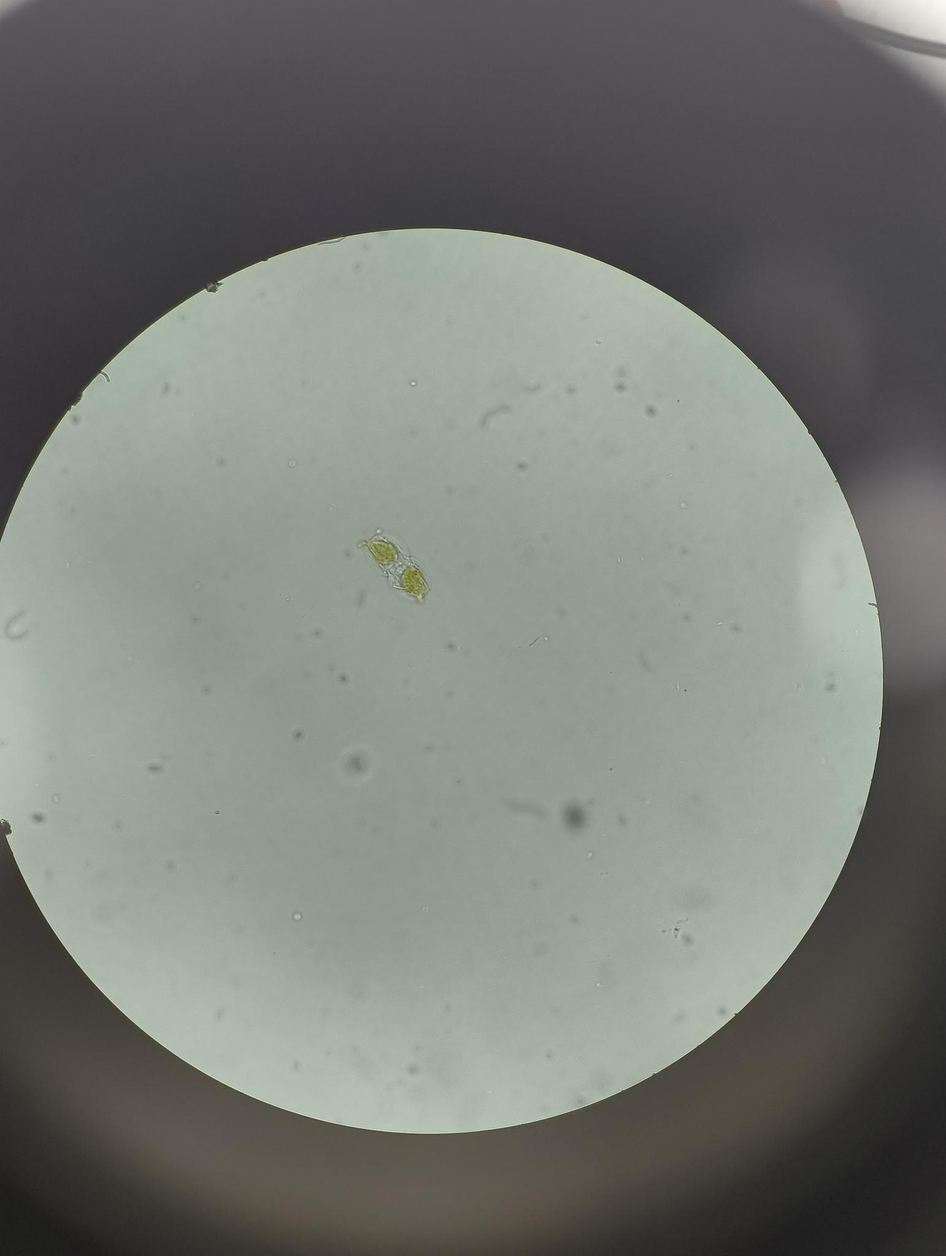Euglena: (356, 522, 436, 607)
